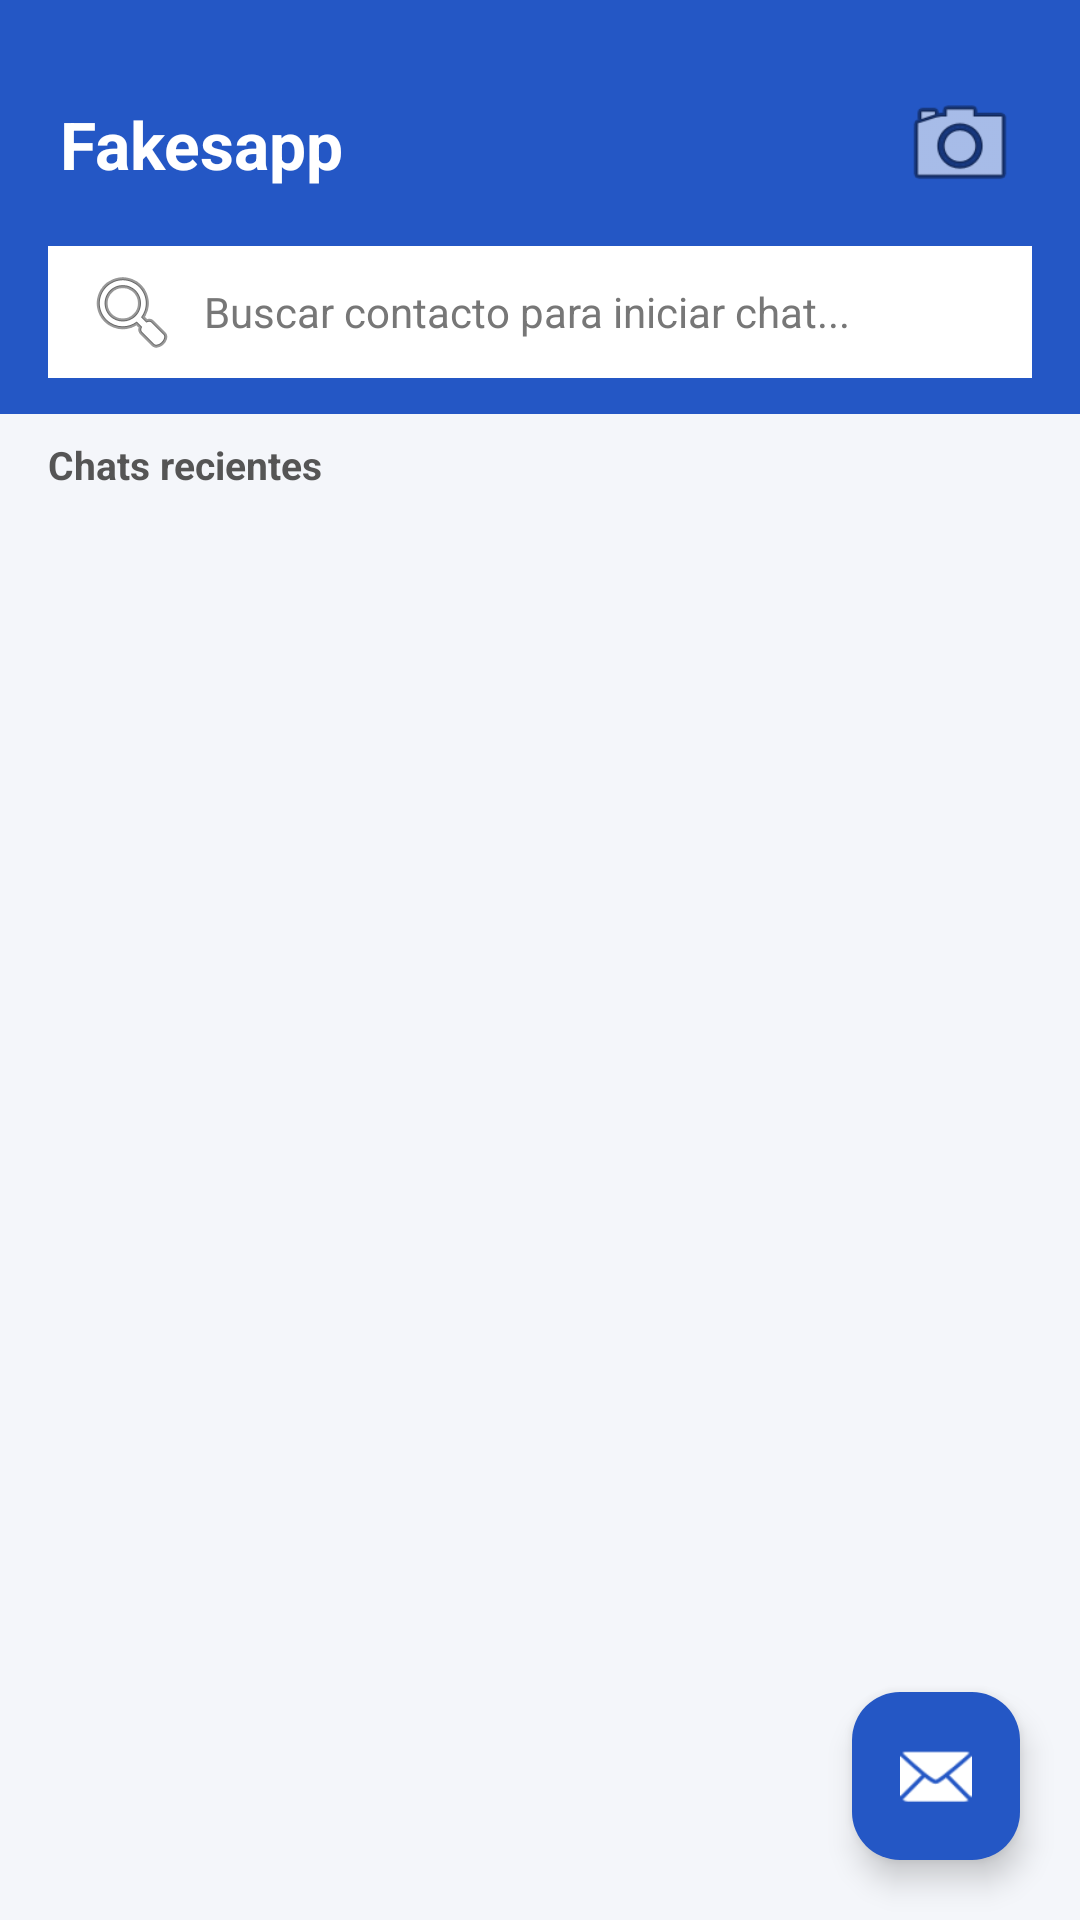

Icon bounding boxes for this 1080*1920 phone screenshot, format detection(x1, y1, x2, y2):
Nuevo chat: detection(852, 1692, 1020, 1860)
